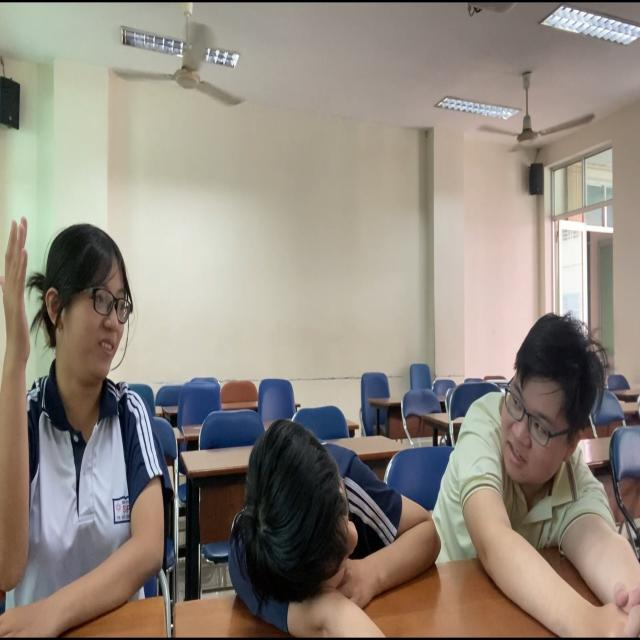raise_hand: (1, 208, 178, 640)
sleep: (210, 419, 444, 635)
